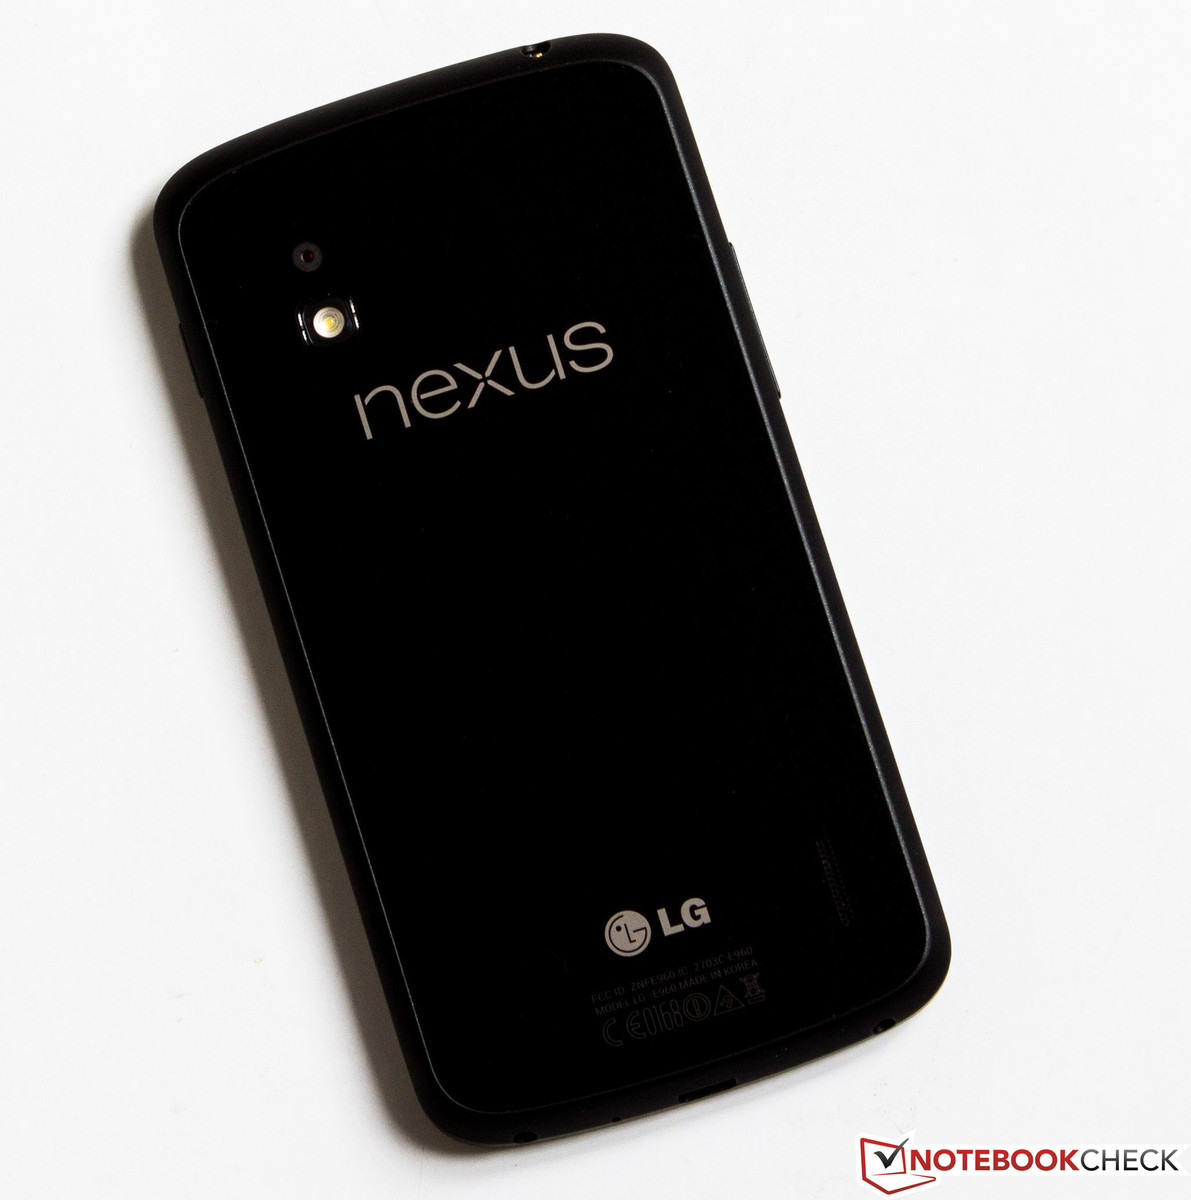smartphone: (151, 31, 953, 1149)
